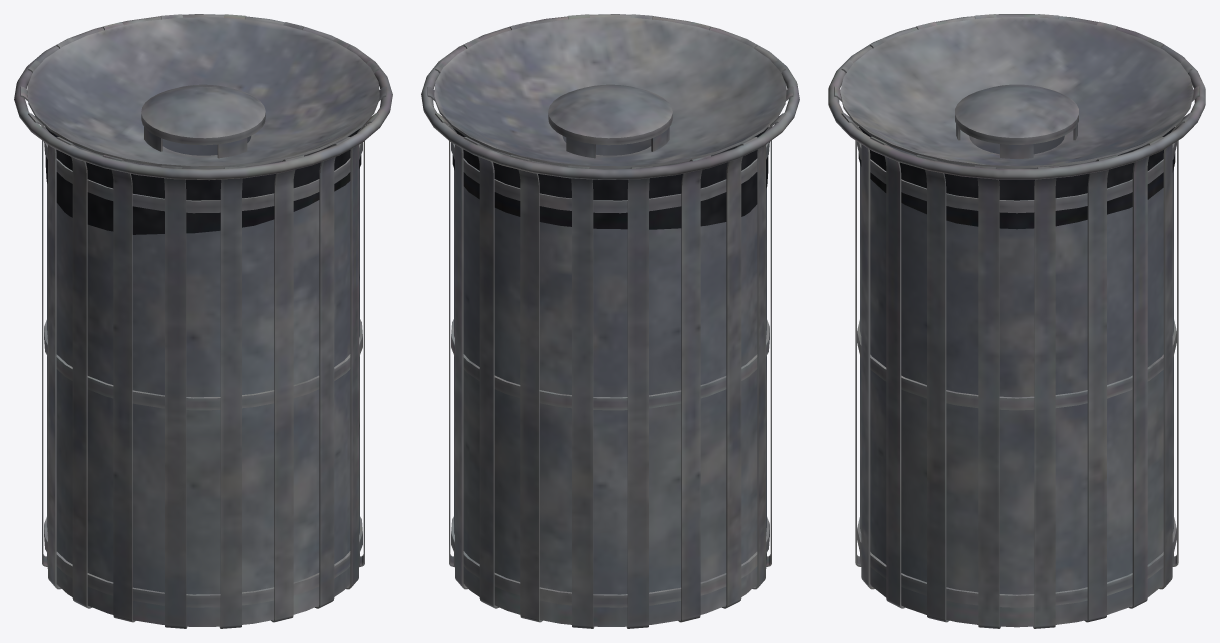
The model's file is SM_Dustbin_03.FBX.
3 views of the same model, side by side, from view 1: azimuth 30°, elevation 25°; view 2: azimuth 150°, elevation 25°; view 3: azimuth 270°, elevation 25° (orthographic).
Visible parts, largest first — view 1: SM_Dustbin_03_LOD0; view 2: SM_Dustbin_03_LOD0; view 3: SM_Dustbin_03_LOD0.
Boxes of the visible parts, <box> form: SM_Dustbin_03_LOD0: <box>14,14,392,628</box>; SM_Dustbin_03_LOD0: <box>421,14,799,628</box>; SM_Dustbin_03_LOD0: <box>828,14,1205,628</box>.
Size of what is drawn, in the model's own units: 60.68 by 60.68 by 83.67.
